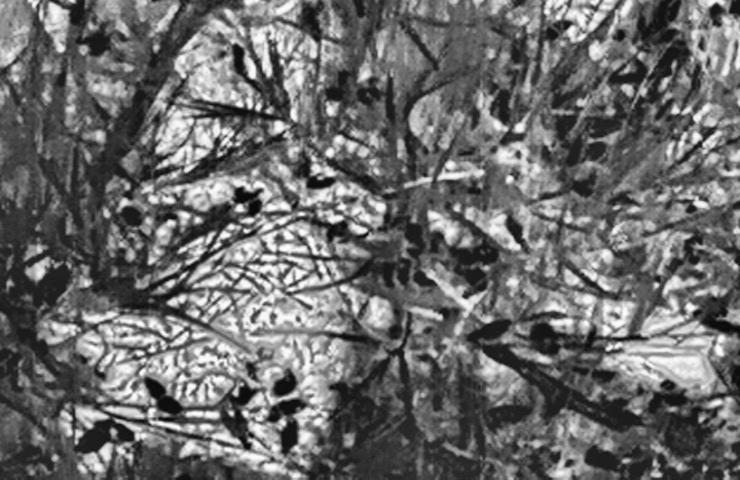landmines: (37, 196, 357, 478)
